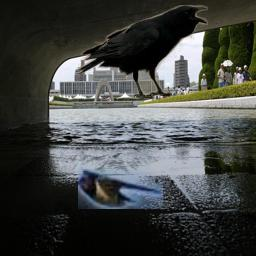Crow: (78, 5, 208, 99)
Swallow: (78, 169, 163, 209)
